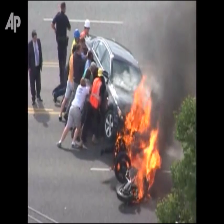fire_h: (122, 74, 162, 199)
fire_l: (115, 133, 121, 154), (125, 162, 129, 167), (117, 163, 120, 169)
